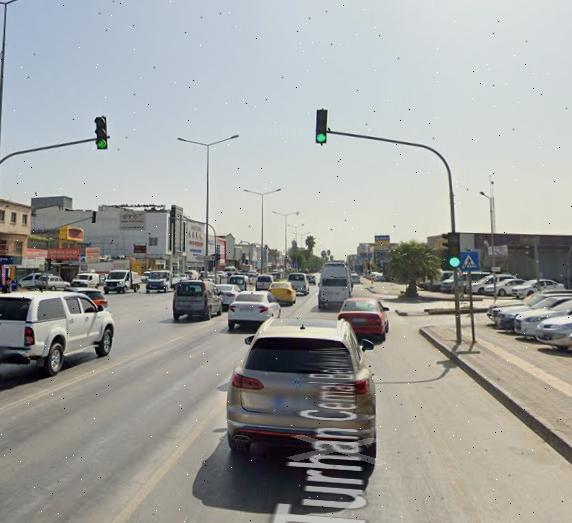greenlight: (447, 234, 461, 272), (94, 115, 109, 150), (316, 106, 327, 146)
